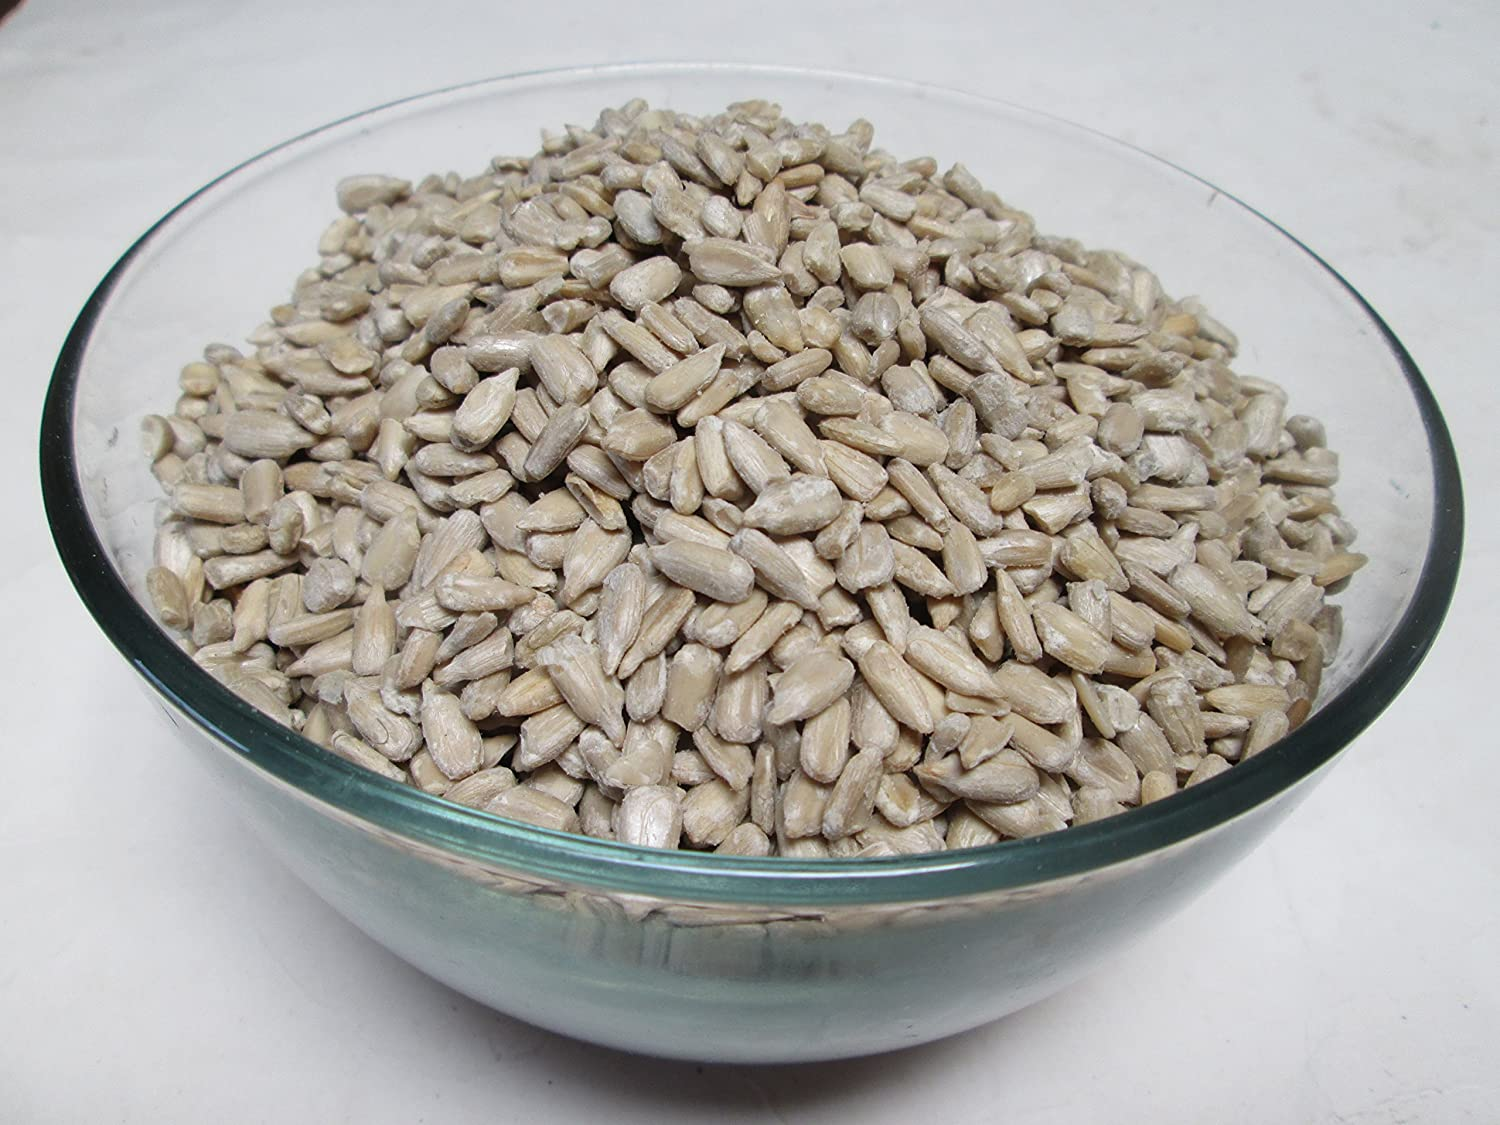seed: (96, 64, 1406, 872)
